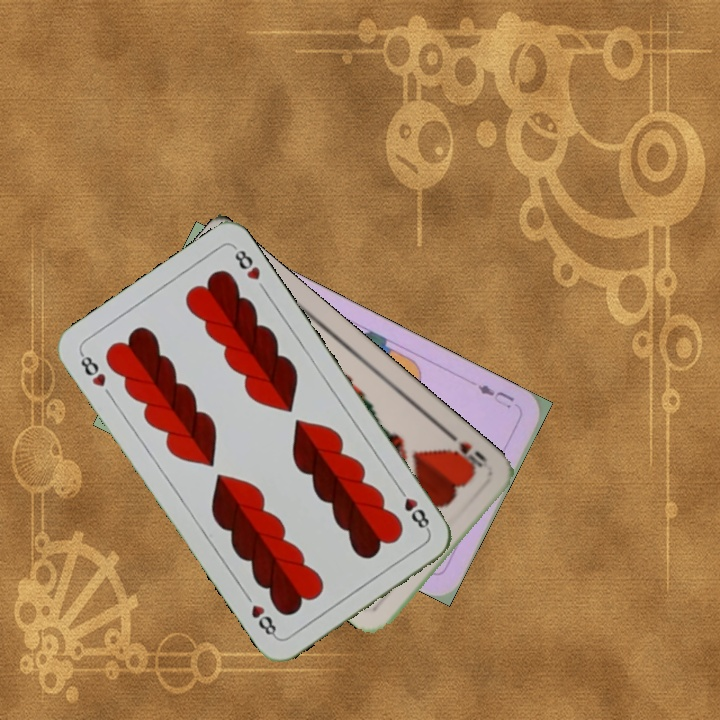EU: (473, 380, 517, 412)
H8: (393, 482, 432, 534), (76, 348, 109, 390)
HO: (442, 427, 490, 475)
